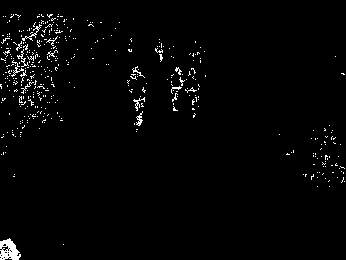person: (127, 65, 147, 131), (185, 67, 201, 119), (169, 65, 184, 113)
